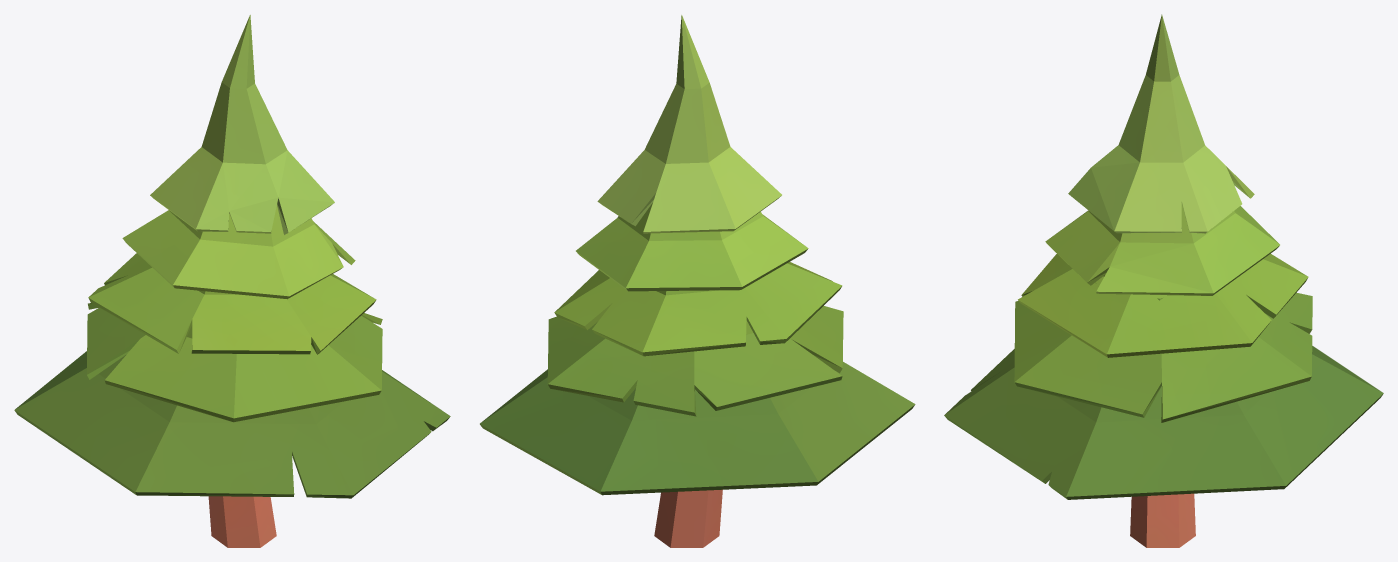
The model's file is 3D-Arboles-Alrededor.fbx.
The picture shows the model from 3 angles, left to right: view 1: azimuth 30°, elevation 25°; view 2: azimuth 150°, elevation 25°; view 3: azimuth 270°, elevation 25°; orthographic projection.
Visible parts, largest first — view 1: Cylinder.003; view 2: Cylinder.003; view 3: Cylinder.003.
Boxes of the visible parts, <box> form: Cylinder.003: <box>14,15,450,547</box>; Cylinder.003: <box>480,15,915,547</box>; Cylinder.003: <box>944,14,1383,547</box>.
Size of the model in its own units: 371 by 544 by 414.
1 material, 1 textured.
